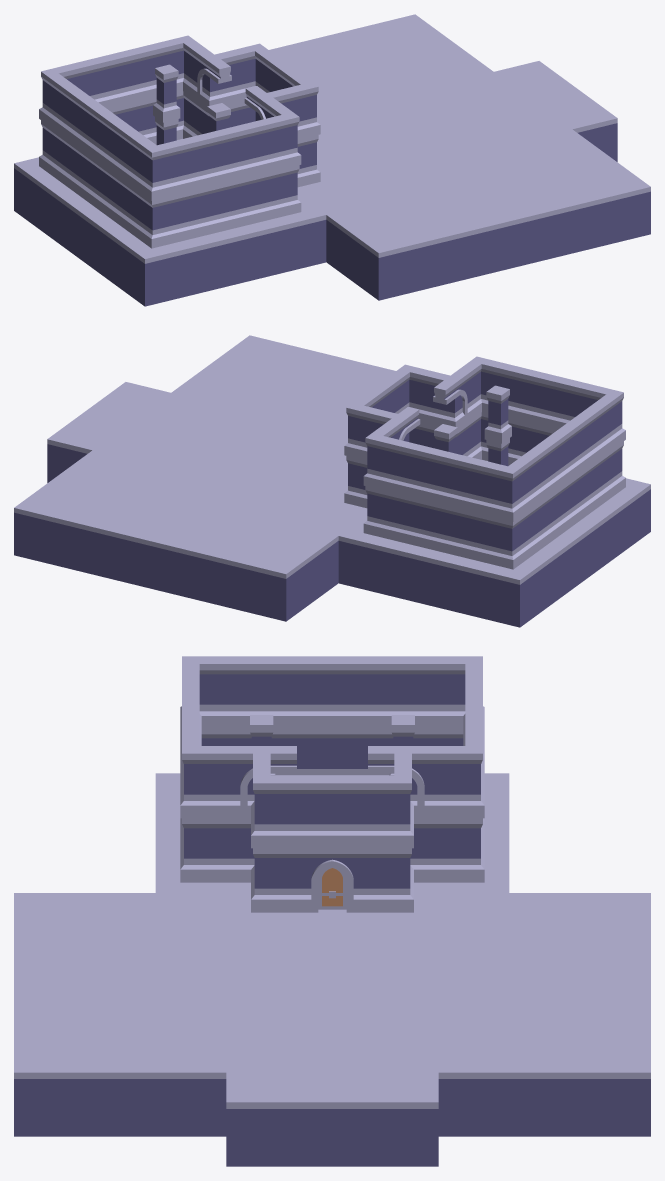
The model's file is PrototypeRoom.01.obj.
3 views of the same model, one above another, from view 1: azimuth 30°, elevation 25°; view 2: azimuth 150°, elevation 25°; view 3: azimuth 270°, elevation 25° (orthographic). The views are drawn at different scales.
Parts seen in each view (by area): view 1: floor, wall, wall_corner, column, wall_gate_side; view 2: floor, wall, wall_corner, column, wall_gate_side; view 3: floor, wall_corner, wall, wall_gate_side, wall_gate, column, door.
Part boxes in pixels (x1,y1,x2,y2): floor: [14, 14, 650, 306]; wall: [56, 42, 301, 241]; wall_corner: [39, 35, 320, 248]; column: [153, 64, 230, 145]; wall_gate_side: [193, 48, 275, 119]; floor: [14, 335, 650, 627]; wall: [363, 363, 608, 562]; wall_corner: [344, 356, 625, 569]; column: [434, 385, 511, 466]; wall_gate_side: [382, 370, 472, 440]; floor: [14, 773, 650, 1166]; wall_corner: [180, 656, 484, 912]; wall: [180, 656, 484, 849]; wall_gate_side: [226, 746, 438, 818]; wall_gate: [297, 848, 367, 912]; column: [250, 715, 414, 775]; door: [318, 867, 346, 909].
Bounding box in the file's own units: 11 × 3 × 9.
